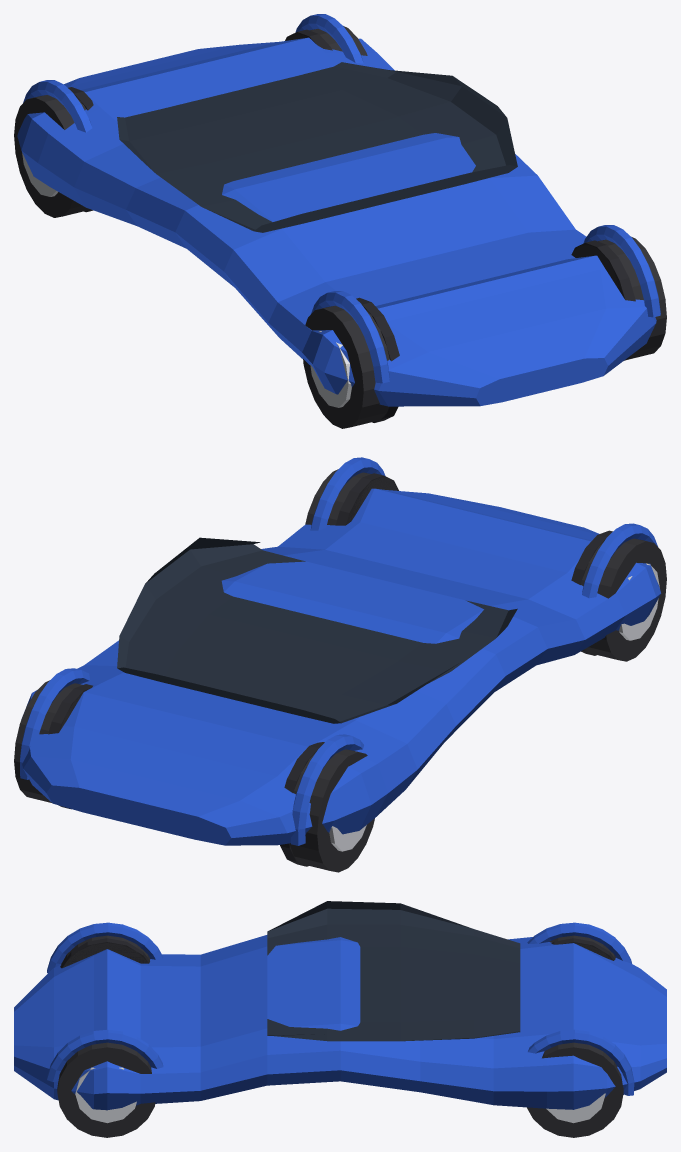
File: racecar.glb
3 views of the same model, one above another, from view 1: azimuth 30°, elevation 25°; view 2: azimuth 150°, elevation 25°; view 3: azimuth 270°, elevation 25° (orthographic). The views are drawn at different scales.
Parts seen in each view (by area): view 1: body, glass_canopy, wheel_front_tyre.001, wheel_rear_tyre.001, wheel_front_tyre, body_arch.001, body_arch, body_arch.003, body_arch.002, wheel_front_well.001, wheel_front_well, wheel_front_rim.001; view 2: body, glass_canopy, wheel_rear_tyre.001, wheel_front_tyre.001, body_arch.003, body_arch.002, wheel_rear_tyre, body_arch.001, body_arch, wheel_front_tyre, wheel_front_well, wheel_rear_well.001 (+3 smaller); view 3: body, glass_canopy, wheel_front_tyre, wheel_rear_tyre, body_arch, body_arch.001, body_arch.002, body_arch.003, wheel_front_tyre.001, wheel_front_rim, wheel_front_well.001, wheel_rear_rim (+2 smaller).
Part boxes in pixels (left/top/right/bottom): body: left=17, top=37, right=656, bottom=406; glass_canopy: left=117, top=62, right=517, bottom=232; wheel_front_tyre.001: left=303, top=305, right=389, bottom=428; wheel_rear_tyre.001: left=14, top=95, right=90, bottom=217; wheel_front_tyre: left=571, top=237, right=666, bottom=359; body_arch.001: left=311, top=291, right=389, bottom=383; body_arch: left=583, top=225, right=660, bottom=317; body_arch.003: left=23, top=80, right=92, bottom=132; body_arch.002: left=295, top=14, right=363, bottom=63; wheel_front_well.001: left=356, top=297, right=399, bottom=422; wheel_front_well: left=571, top=240, right=635, bottom=360; wheel_front_rim.001: left=310, top=331, right=351, bottom=407; body: left=20, top=488, right=661, bottom=845; glass_canopy: left=117, top=537, right=517, bottom=723; wheel_rear_tyre.001: left=289, top=749, right=374, bottom=872; wheel_front_tyre.001: left=581, top=538, right=666, bottom=661; body_arch.003: left=291, top=734, right=363, bottom=845; body_arch.002: left=20, top=668, right=91, bottom=779; wheel_rear_tyre: left=14, top=680, right=84, bottom=802; body_arch.001: left=582, top=523, right=657, bottom=598; body_arch: left=310, top=457, right=385, bottom=530; wheel_front_tyre: left=305, top=469, right=398, bottom=525; wheel_front_well: left=335, top=473, right=398, bottom=525; wheel_rear_well.001: left=280, top=742, right=324, bottom=866; body: left=14, top=935, right=666, bottom=1110; glass_canopy: left=267, top=901, right=520, bottom=1041; wheel_front_tyre: left=57, top=1042, right=155, bottom=1137; wheel_rear_tyre: left=527, top=1042, right=623, bottom=1137; body_arch: left=47, top=1029, right=163, bottom=1081; body_arch.001: left=47, top=922, right=163, bottom=973; body_arch.002: left=528, top=1029, right=634, bottom=1095; body_arch.003: left=527, top=922, right=631, bottom=963; wheel_front_tyre.001: left=61, top=935, right=150, bottom=967; wheel_front_rim: left=75, top=1067, right=136, bottom=1123; wheel_front_well.001: left=60, top=938, right=149, bottom=968; wheel_rear_rim: left=546, top=1093, right=605, bottom=1123.
Size of the model in its own units: 2.16 by 0.9066 by 4.31.
